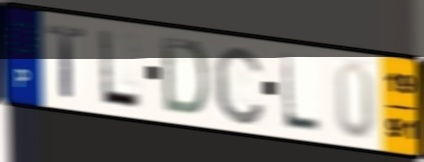0: (333, 58, 377, 142)
C: (211, 42, 268, 128)
D: (158, 33, 211, 119)
L: (97, 27, 144, 113), (279, 50, 323, 136)
T: (45, 22, 88, 101)
